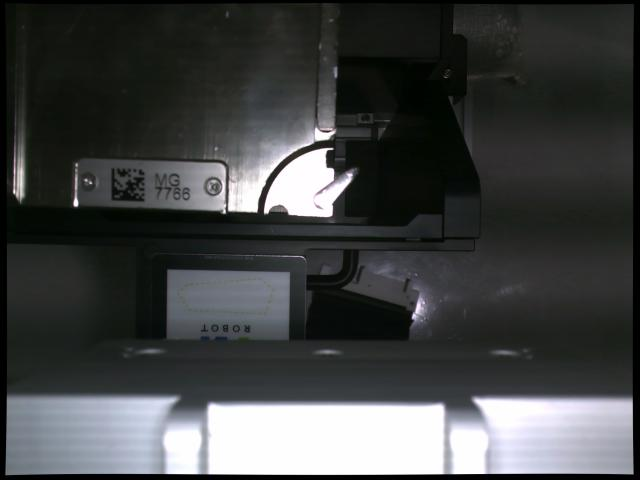jig_latch: (314, 167, 359, 209)
